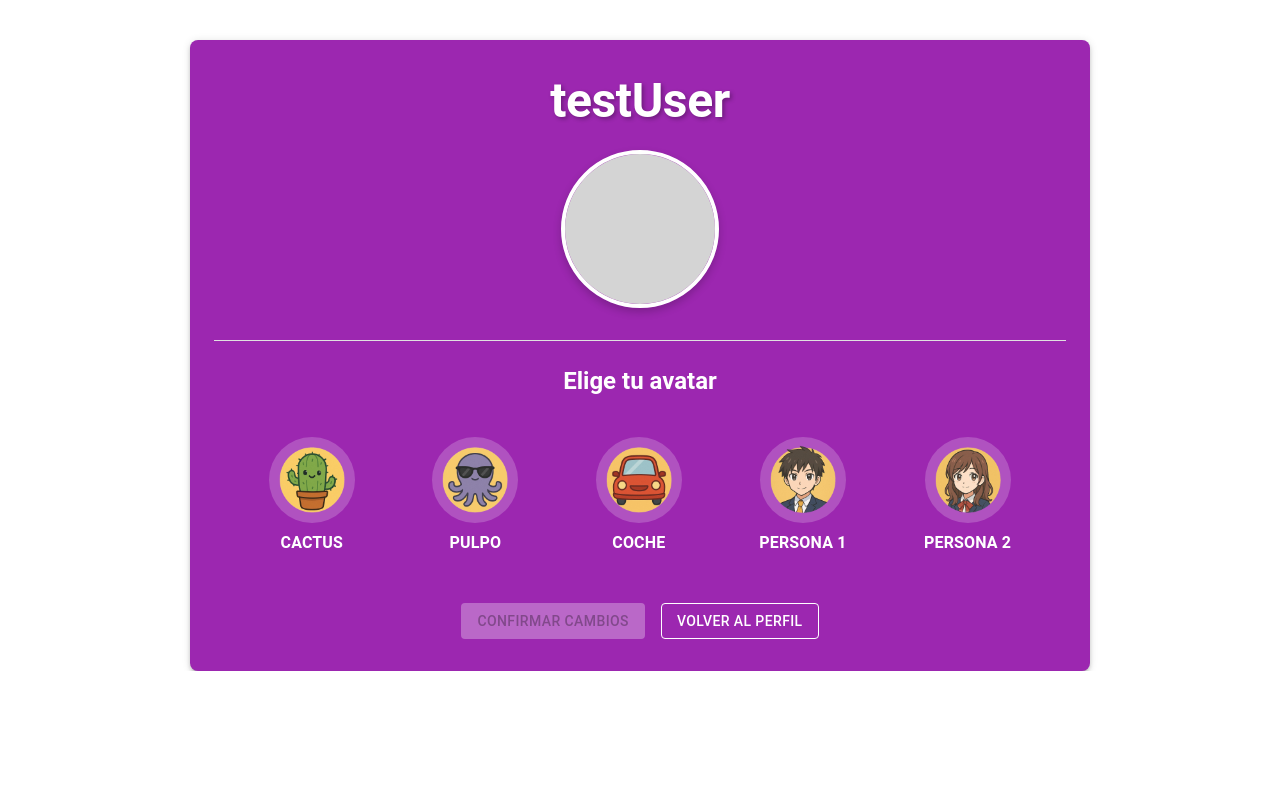
Scenario: AvatarSelection component › should show success message when avatar is updated
Click the button with test id "cactus-button".
click(312, 496)  # box [253,421,371,571]
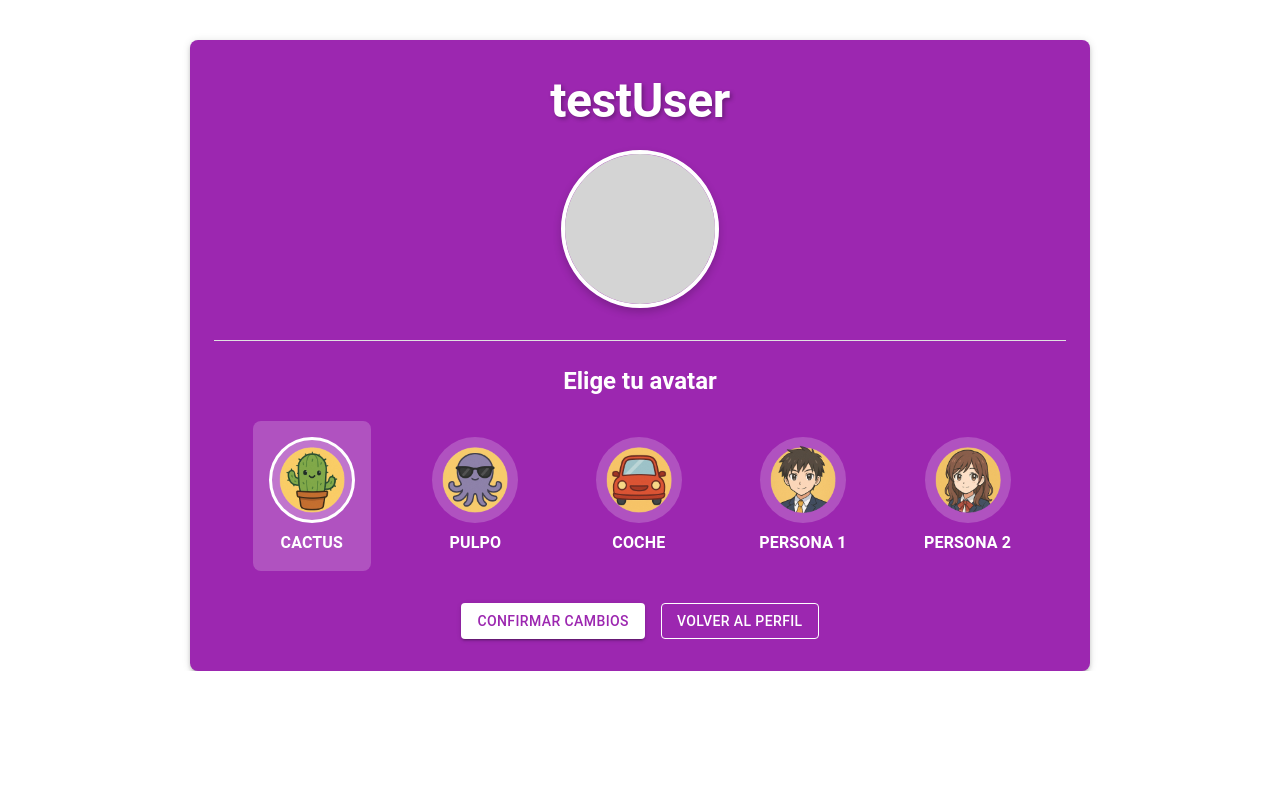
Click the button with test id "confirm-button".
click(553, 621)  # box [461,603,645,639]
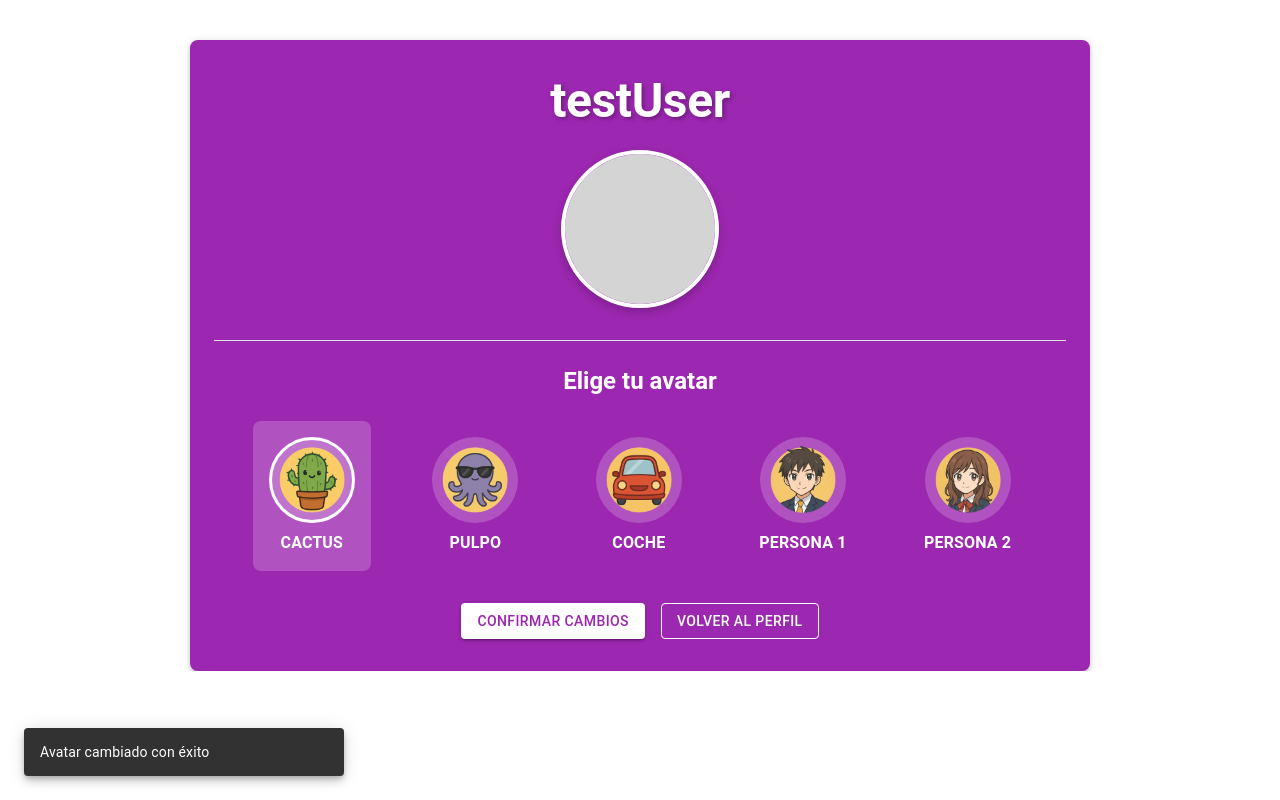
Now the text "Avatar cambiado con éxito" is shown, box [40,744,209,760]
